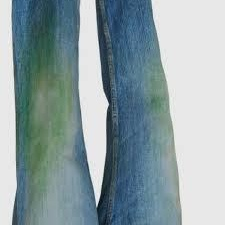earth: (23, 50, 67, 173), (145, 81, 164, 123)
